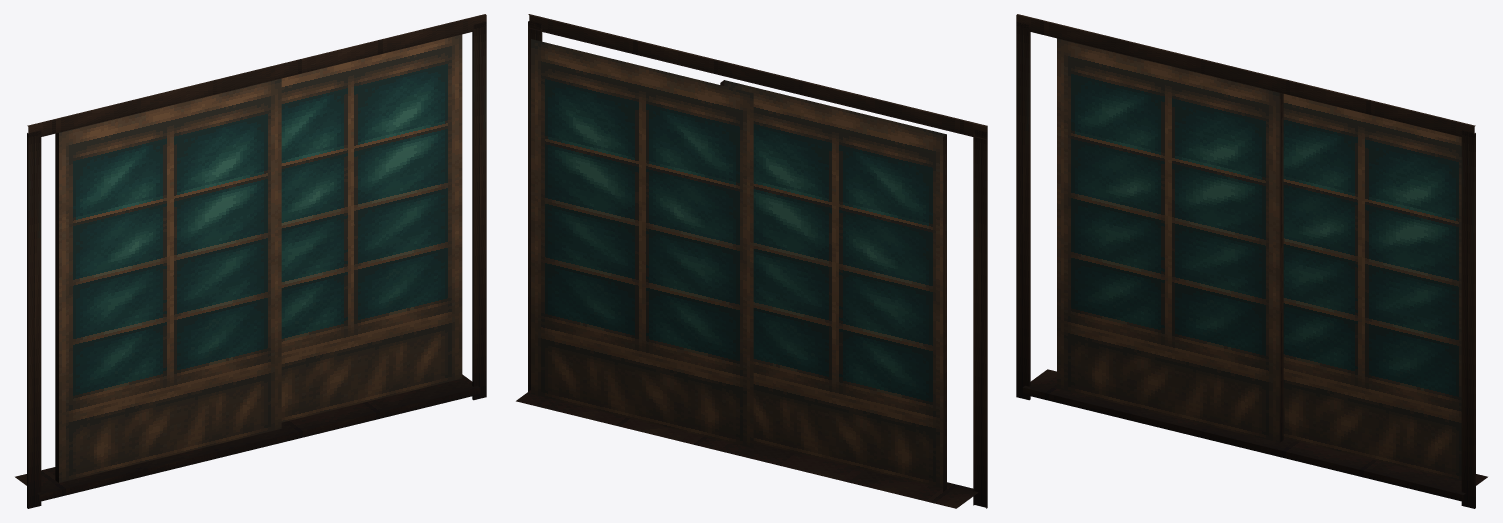
Rendered from prop_sash-20-16-4.glb.
3 renders of one model, left to right at view 1: azimuth 30°, elevation 25°; view 2: azimuth 150°, elevation 25°; view 3: azimuth 330°, elevation 25°, orthographic.
Parts seen in each view (by area): view 1: prop_sash-20-16-4; view 2: prop_sash-20-16-4; view 3: prop_sash-20-16-4.
Part boxes in pixels (x1=…): prop_sash-20-16-4: x1=15, y1=14, x2=486, y2=508; prop_sash-20-16-4: x1=516, y1=14, x2=987, y2=508; prop_sash-20-16-4: x1=1016, y1=14, x2=1487, y2=508.
Size of the model in its own units: 2.12 by 1.69 by 0.2.
2 materials, 2 textured.
